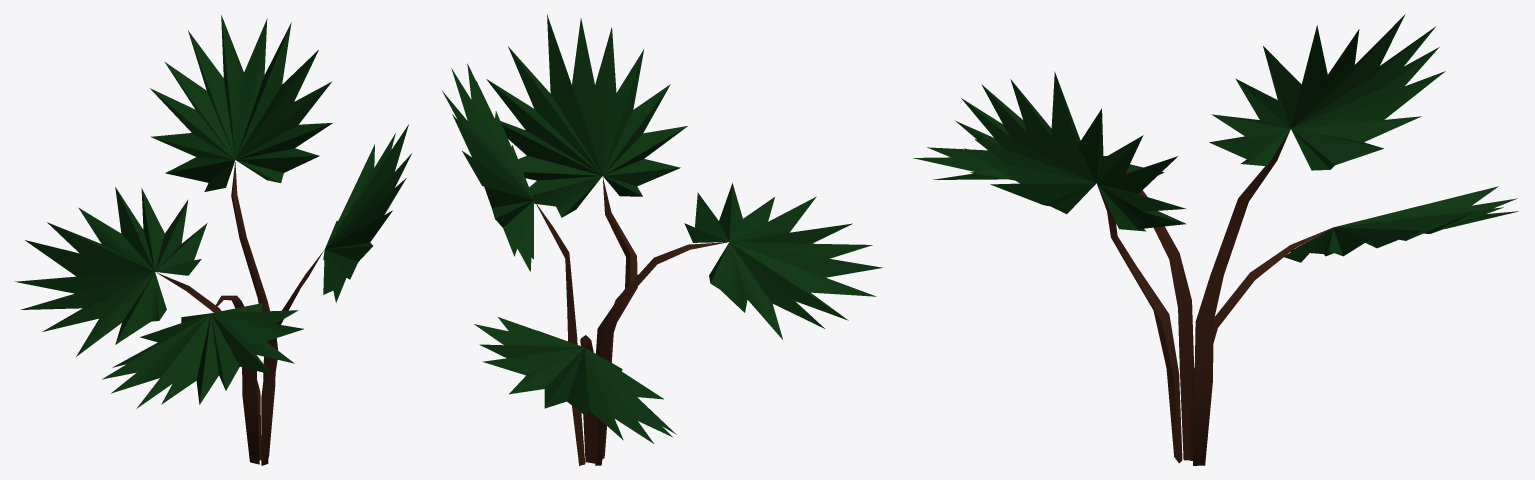
Rendered from SM_SmallPalm_02.obj.
The picture shows the model from 3 angles, left to right: view 1: azimuth 30°, elevation 25°; view 2: azimuth 150°, elevation 25°; view 3: azimuth 270°, elevation 25°; orthographic projection. The views are drawn at different scales.
Visible parts, largest first — view 1: SM_SmallPalm_02; view 2: SM_SmallPalm_02; view 3: SM_SmallPalm_02.
Part boxes in pixels (x1,y1,x2,y2): SM_SmallPalm_02: (14,15,411,465); SM_SmallPalm_02: (442,14,883,465); SM_SmallPalm_02: (913,14,1518,465).
Size of the model in its own units: 1.36 by 1.6 by 1.81.
